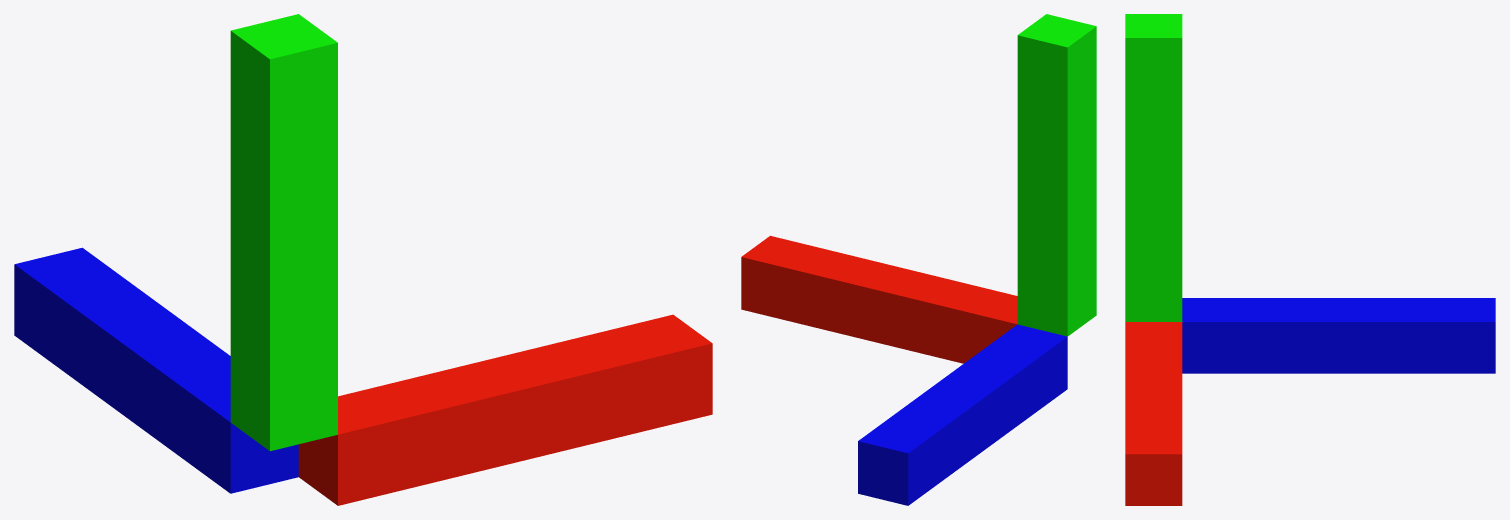
File: xyz.obj
The picture shows the model from 3 angles, left to right: view 1: azimuth 30°, elevation 25°; view 2: azimuth 150°, elevation 25°; view 3: azimuth 270°, elevation 25°; orthographic projection. The views are drawn at different scales.
Visible parts, largest first — view 1: Cube.002_Cube.010; view 2: Cube.002_Cube.010; view 3: Cube.002_Cube.010.
Part boxes in pixels (x1,y1,x2,y2): Cube.002_Cube.010: (14,14,712,505); Cube.002_Cube.010: (741,14,1096,505); Cube.002_Cube.010: (1125,14,1495,505).
Size of the model in its own units: 6.5 by 6.5 by 6.5.
1 material, 1 textured.
